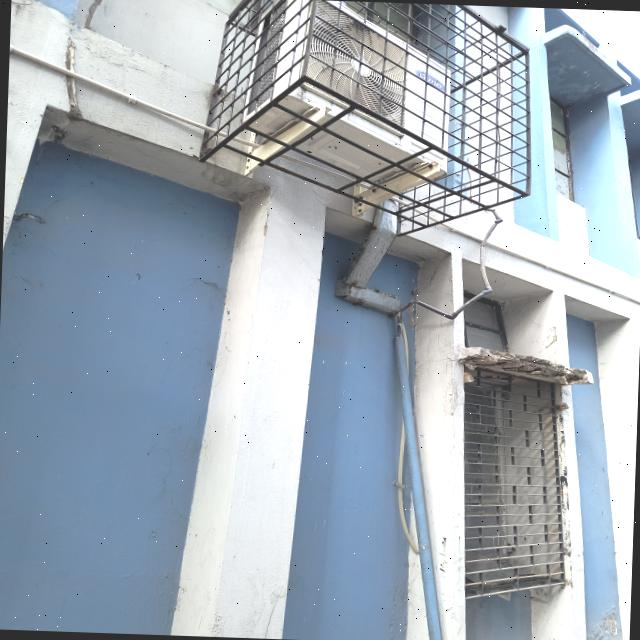Paint Peeling: (587, 612, 621, 640)
Spalling: (456, 347, 593, 385)
